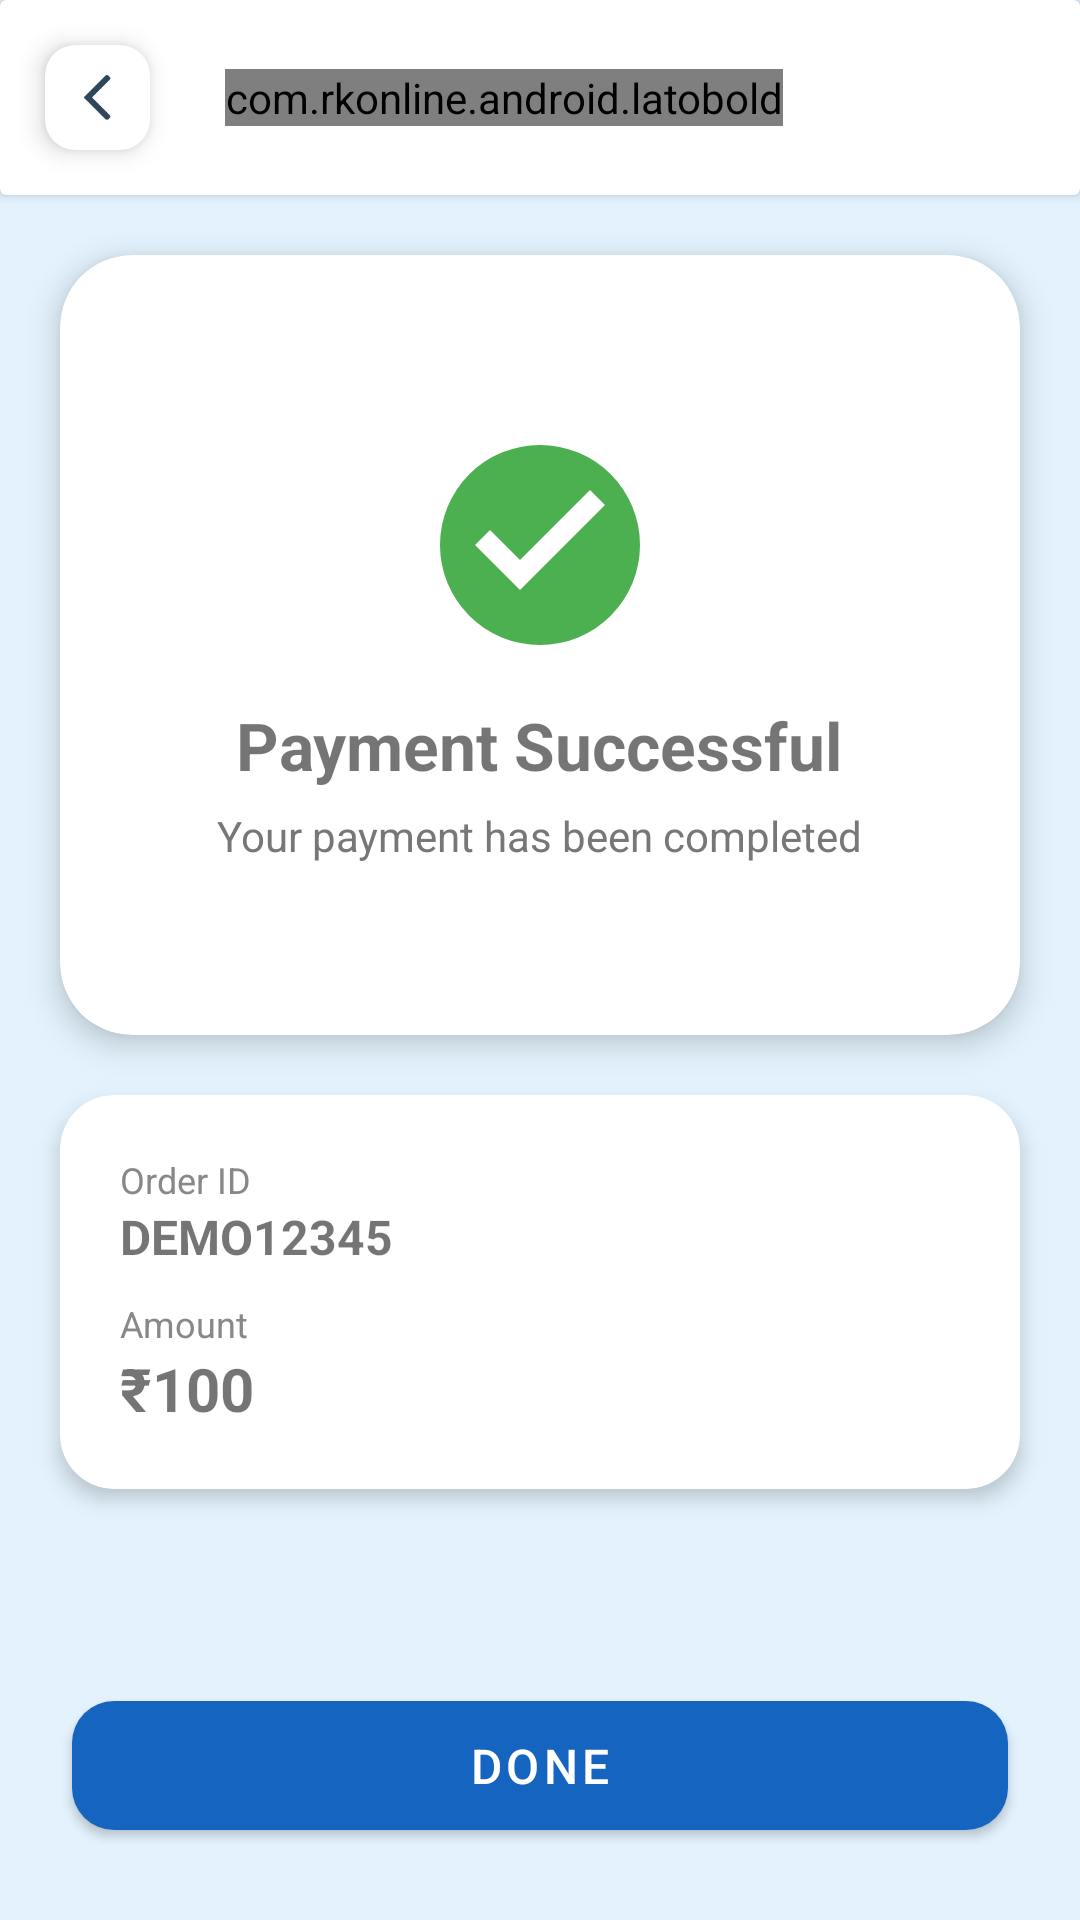

Named icons in this screenshot (1080px×1920px) and their bounding boxes, region(x1, y1, x2, y2):
back: region(84, 75, 111, 120)
